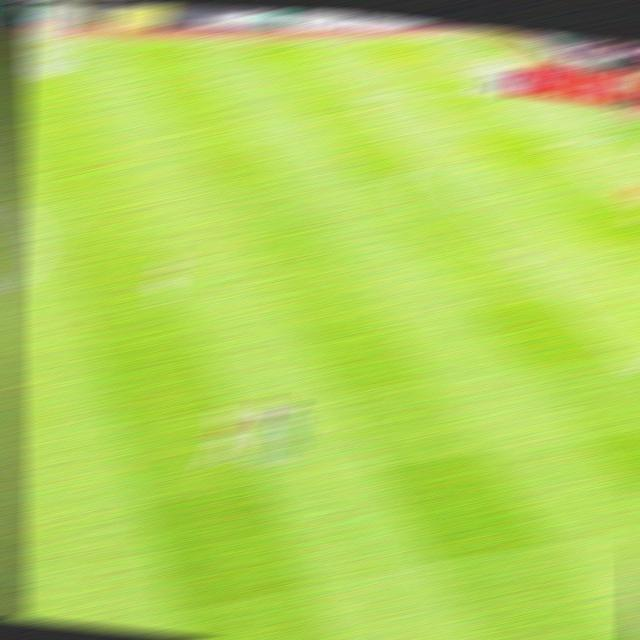bigarea_top_inner: (343, 86, 374, 106)
bigarea_top_outter: (601, 128, 631, 146)
bottom_arc_area_intersection: (510, 250, 542, 271)
corner: (449, 28, 481, 44)
smallarea_top_inner: (538, 133, 567, 151)
smallarea_top_outter: (601, 128, 631, 146)
top_arc_area_intersection: (408, 150, 437, 169)
